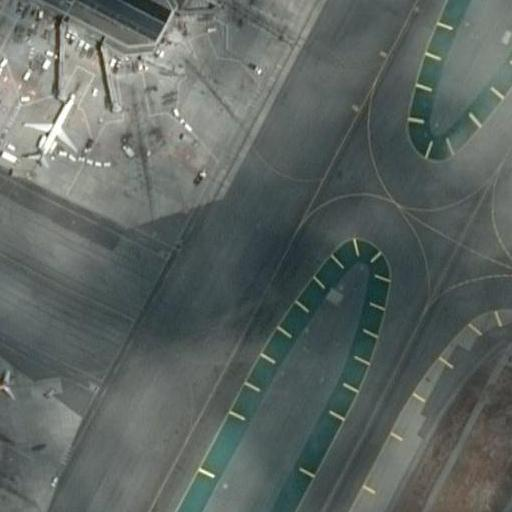Aircraft: (29, 86, 84, 168), (0, 346, 28, 417), (0, 29, 12, 122)
